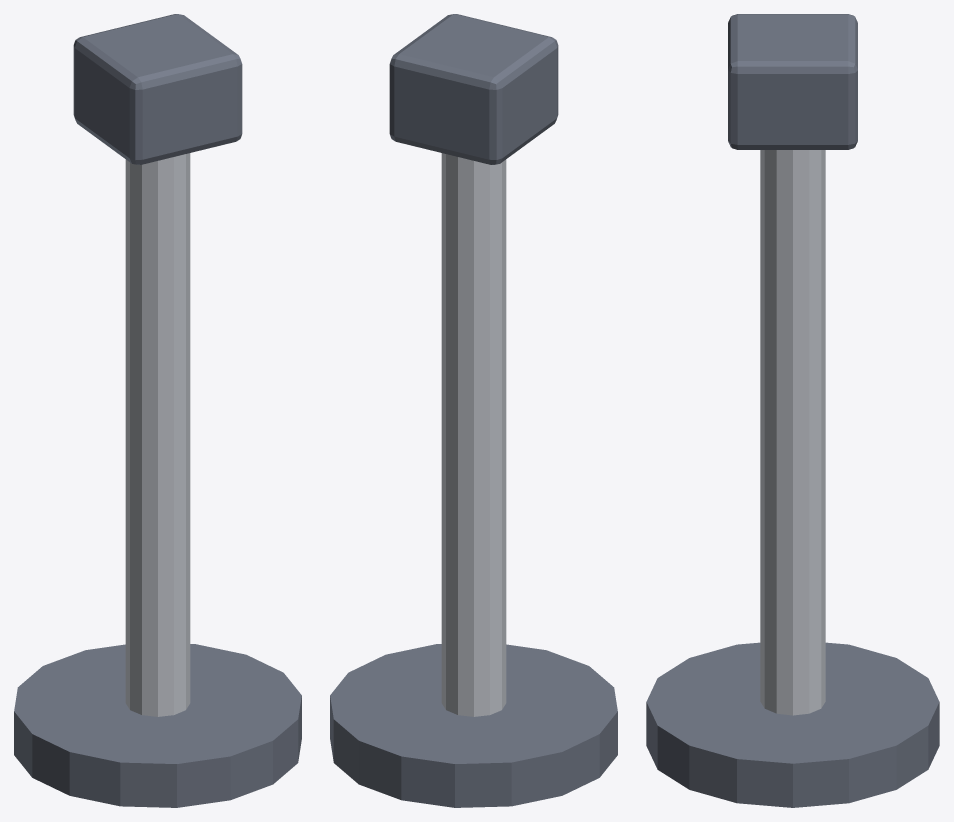
Rendered from solar__stand.fbx.
The picture shows the model from 3 angles, left to right: view 1: azimuth 30°, elevation 25°; view 2: azimuth 150°, elevation 25°; view 3: azimuth 270°, elevation 25°; orthographic projection.
Visible parts, largest first — view 1: solar__stand; view 2: solar__stand; view 3: solar__stand.
Boxes of the visible parts, x1,y1,x2,y2 form: solar__stand: [14, 14, 301, 807]; solar__stand: [330, 14, 617, 807]; solar__stand: [646, 14, 939, 807].
Bounding box in the file's own units: 0.9 × 2.4 × 0.9.
